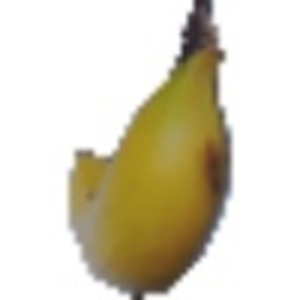banana: (61, 2, 245, 297)
